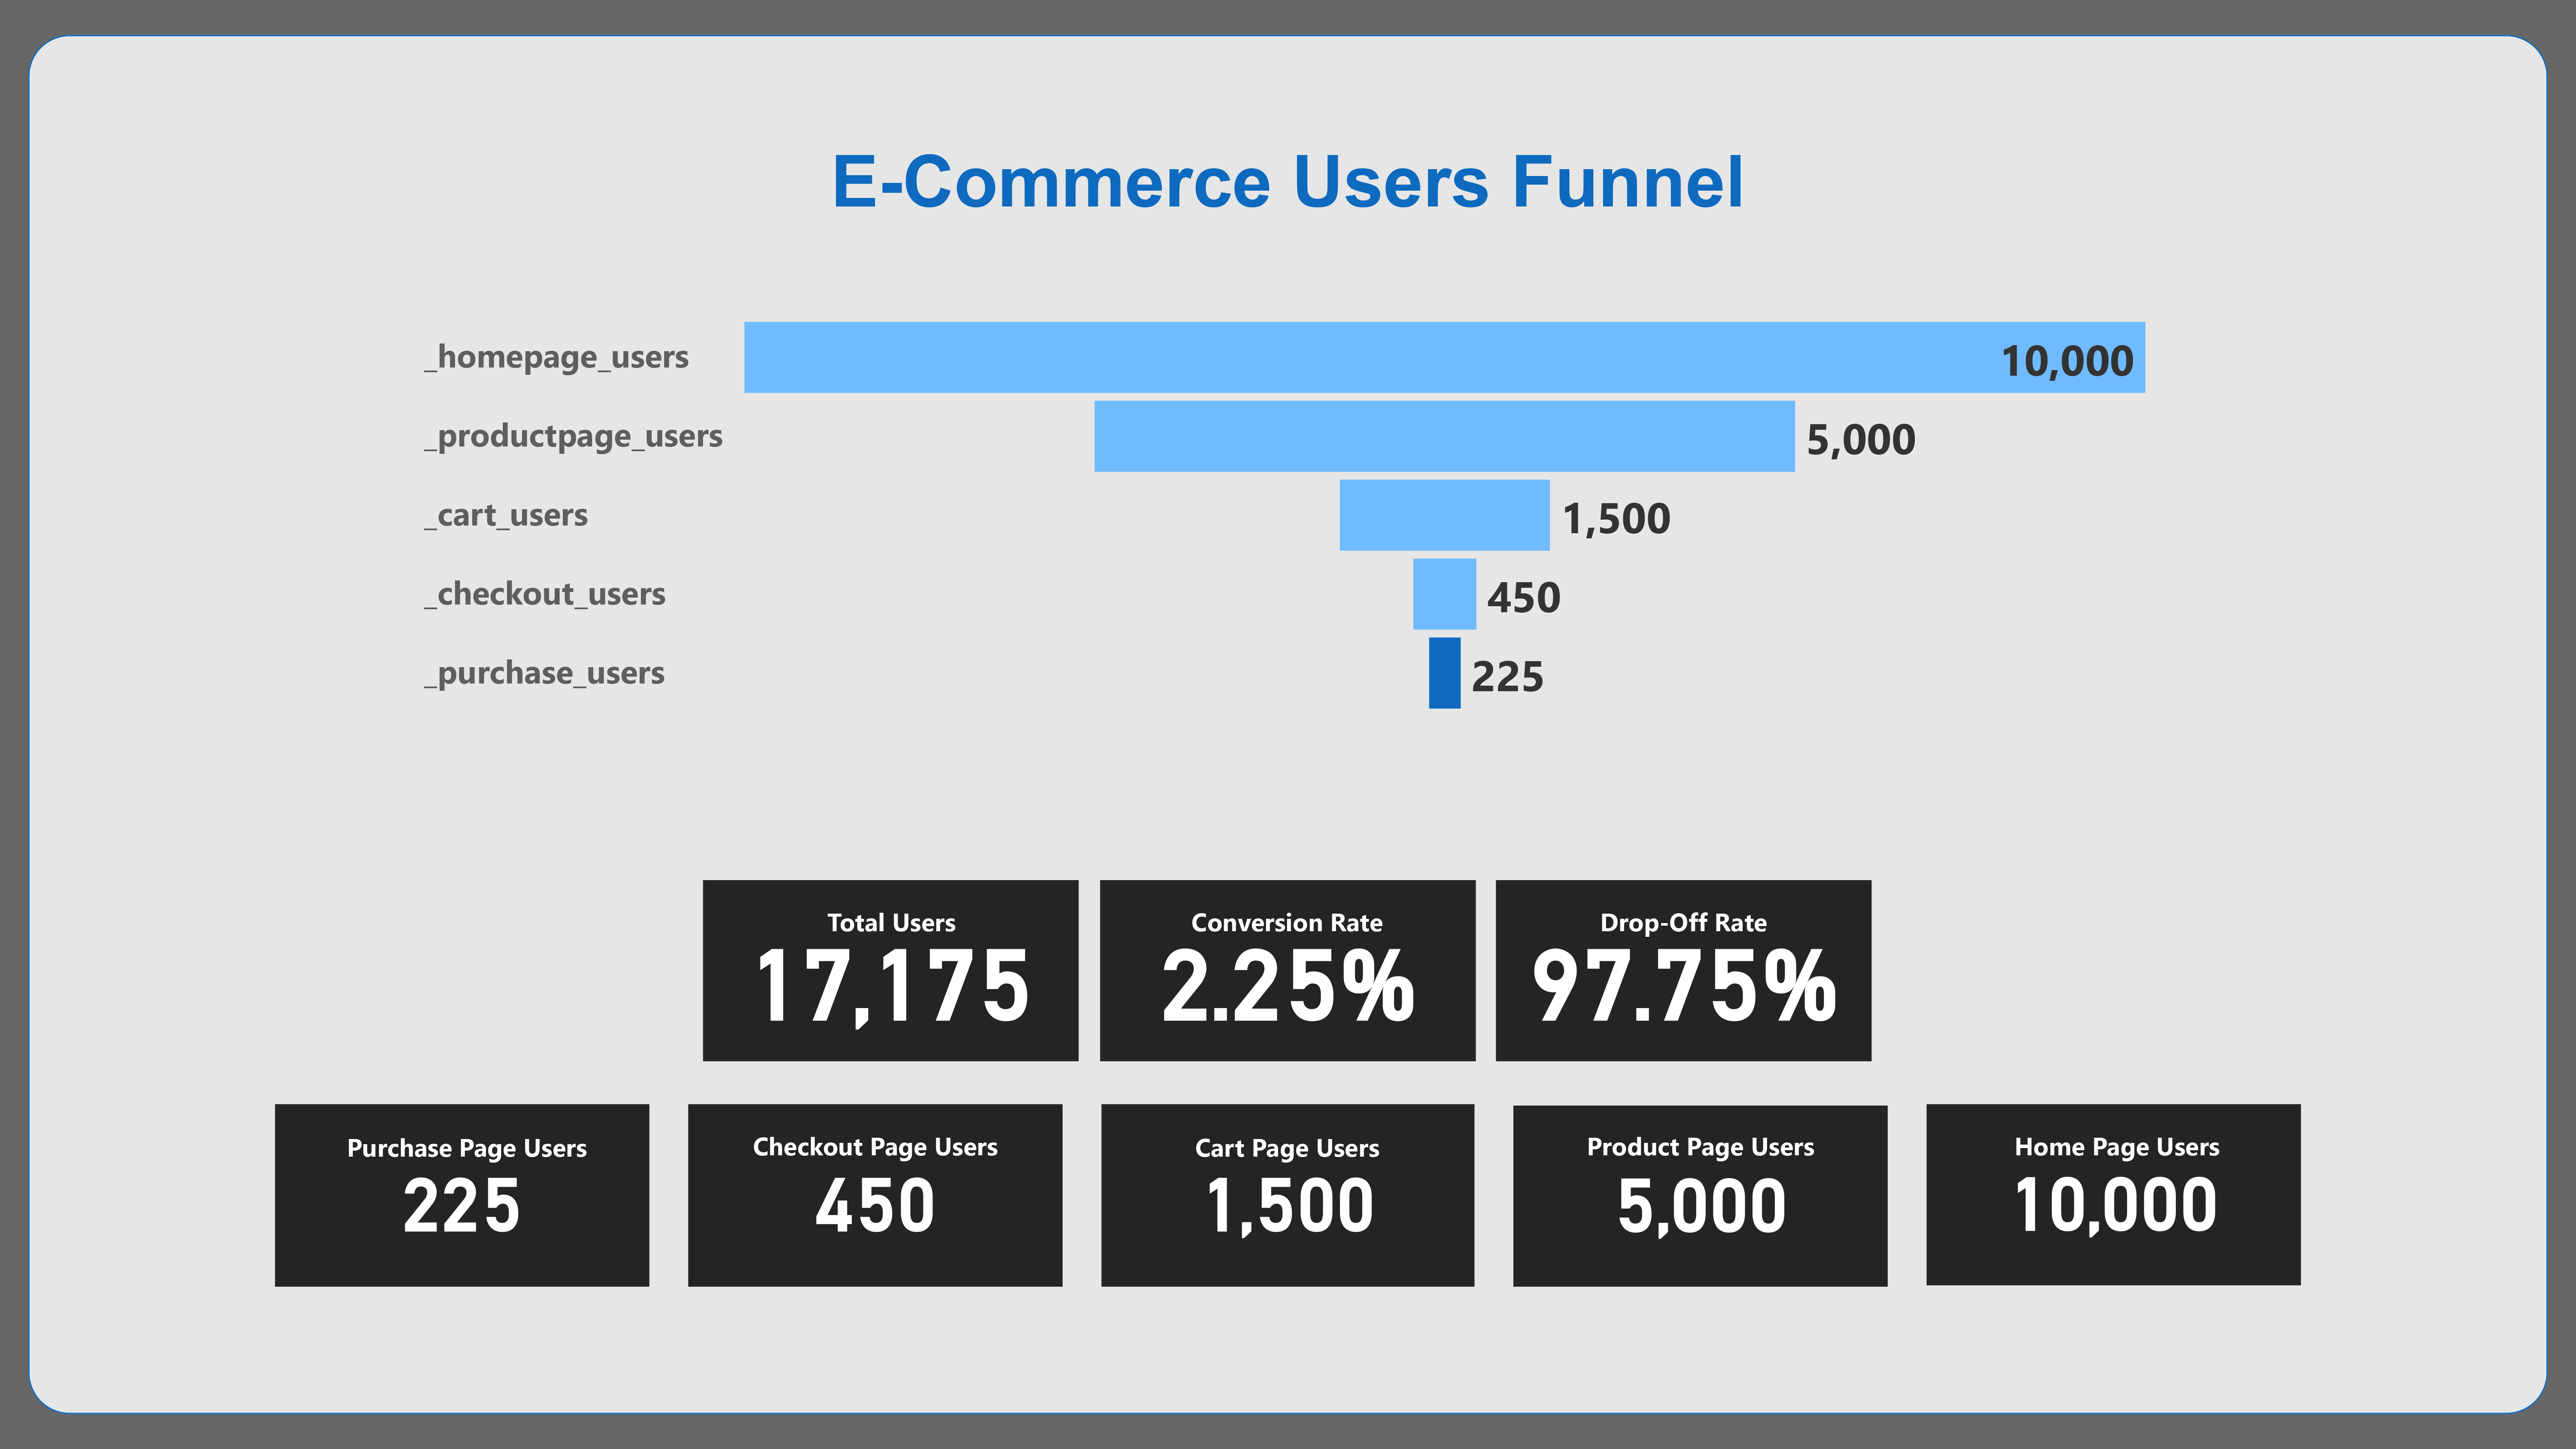

This screenshot's page, from the dashboard's own definition file:
{"tool":"powerbi","page":{"name":"charts","canvas":[1920,1080],"ordinal":1},"visuals":[{"type":"shape","box":[21.4,25.6,1877.3,1028.8],"z":0},{"type":"funnel","title":"E-Commerce Sales Funnel","fields":{"Y":["kpis._homepage_users","kpis._productpage_users","kpis._cart_users","kpis._checkout_users","kpis._purchase_users"]},"box":[310.6,175.8,1298.5,415.2],"z":1000},{"type":"card","fields":{"Values":["kpis._productpage_users"]},"box":[1128.2,824.2,278.8,134.8],"z":2000},{"type":"textbox","box":[348.6,100,1222.7,75],"z":3000},{"type":"card","fields":{"Values":["kpis._cart_users"]},"box":[820.6,822.7,278.8,136.4],"z":4000},{"type":"card","fields":{"Values":["kpis._checkout_users"]},"box":[513,822.7,278.8,136.4],"z":5000},{"type":"card","fields":{"Values":["kpis._purchase_users"]},"box":[205.5,822.7,278.8,136.4],"z":6000},{"type":"card","fields":{"Values":["kpis._homepage_users"]},"box":[1435.8,822.7,278.8,134.8],"z":7000},{"type":"textbox","box":[1458.6,835.7,238.6,37.1],"z":8000},{"type":"textbox","box":[1147.5,835.8,239.2,36.7],"z":9000},{"type":"textbox","box":[840,836.7,239.2,36.7],"z":10000},{"type":"textbox","box":[532.5,835.8,239.2,36.7],"z":11000},{"type":"textbox","box":[228.3,836.7,239.2,36.7],"z":12000},{"type":"card","fields":{"Values":["kpis._total_users"]},"box":[524.2,656.3,280.3,134.8],"z":13000},{"type":"card","fields":{"Values":["kpis._conversion_rate"]},"box":[819.6,656.3,280.3,134.8],"z":14000},{"type":"card","fields":{"Values":["kpis._drop_off_rate"]},"box":[1115.1,656.3,280.3,134.8],"z":15000},{"type":"textbox","box":[1135.5,669.1,239.1,37.3],"z":16000},{"type":"textbox","box":[840,669.1,239.1,37.3],"z":17000},{"type":"textbox","box":[544.5,669.1,239.1,37.3],"z":18000}]}

Visuals, with their boxes in screenshot pixels (x1, y1, x2, y2), scaled from the page's 1920x1080 canvas onto the 2576x1449 screenshot:
shape: BBox(29, 34, 2547, 1415)
"E-Commerce Sales Funnel" funnel: BBox(417, 236, 2159, 793)
card - kpis._productpage_users: BBox(1514, 1106, 1888, 1287)
textbox: BBox(468, 134, 2108, 235)
card - kpis._cart_users: BBox(1101, 1104, 1475, 1287)
card - kpis._checkout_users: BBox(688, 1104, 1062, 1287)
card - kpis._purchase_users: BBox(276, 1104, 650, 1287)
card - kpis._homepage_users: BBox(1926, 1104, 2300, 1285)
textbox: BBox(1957, 1121, 2277, 1171)
textbox: BBox(1540, 1121, 1860, 1171)
textbox: BBox(1127, 1123, 1448, 1172)
textbox: BBox(714, 1121, 1036, 1171)
textbox: BBox(306, 1123, 627, 1172)
card - kpis._total_users: BBox(703, 881, 1079, 1061)
card - kpis._conversion_rate: BBox(1100, 881, 1476, 1061)
card - kpis._drop_off_rate: BBox(1496, 881, 1872, 1061)
textbox: BBox(1523, 898, 1844, 948)
textbox: BBox(1127, 898, 1448, 948)
textbox: BBox(731, 898, 1051, 948)
